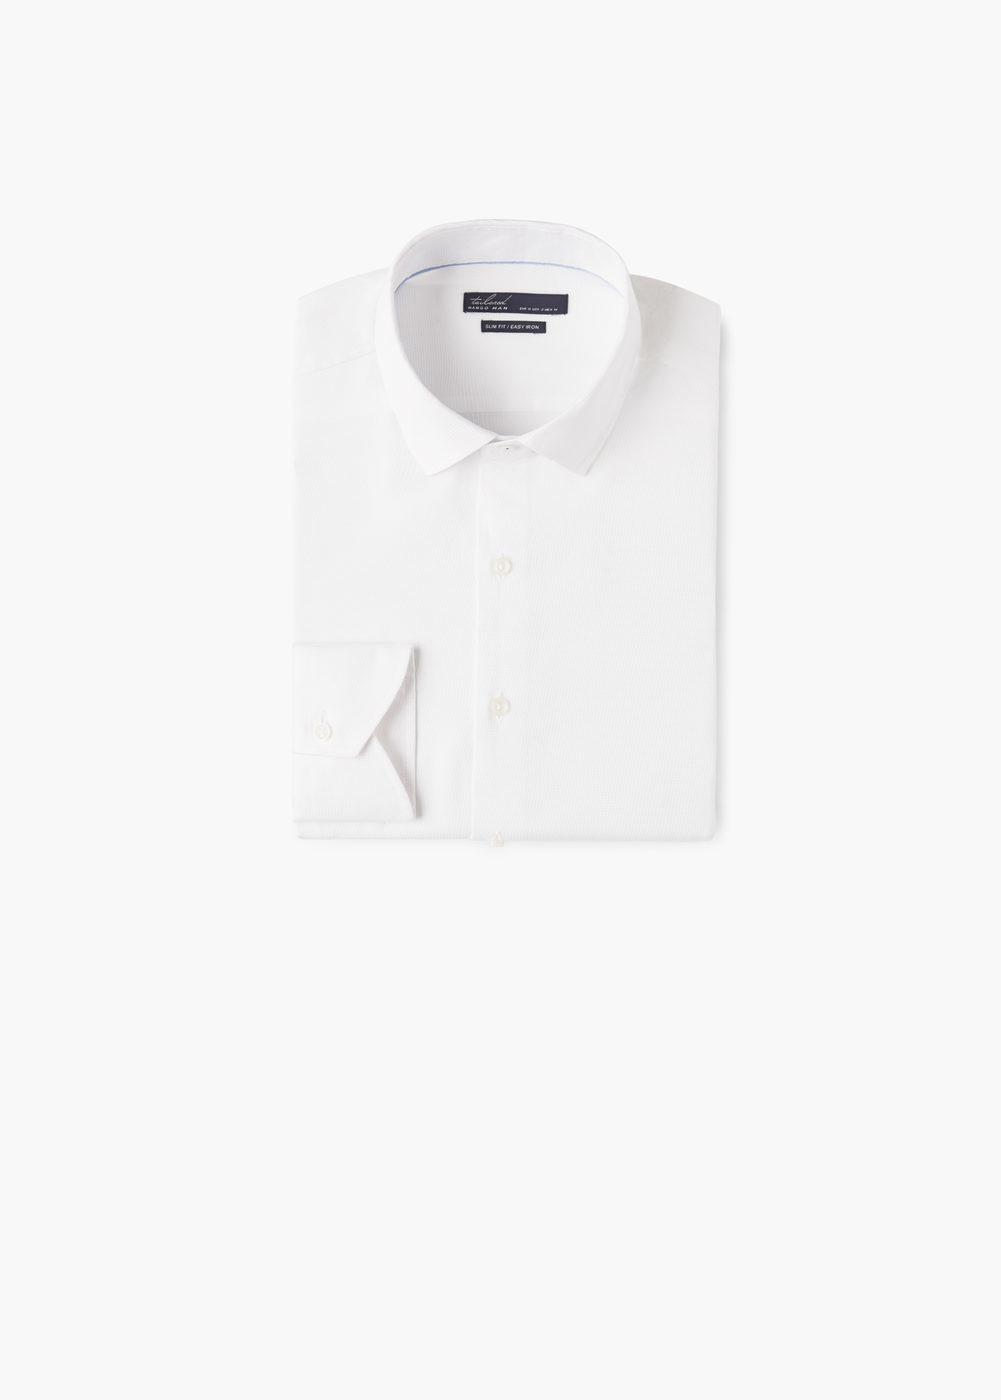teeshirt: (261, 204, 734, 852)
